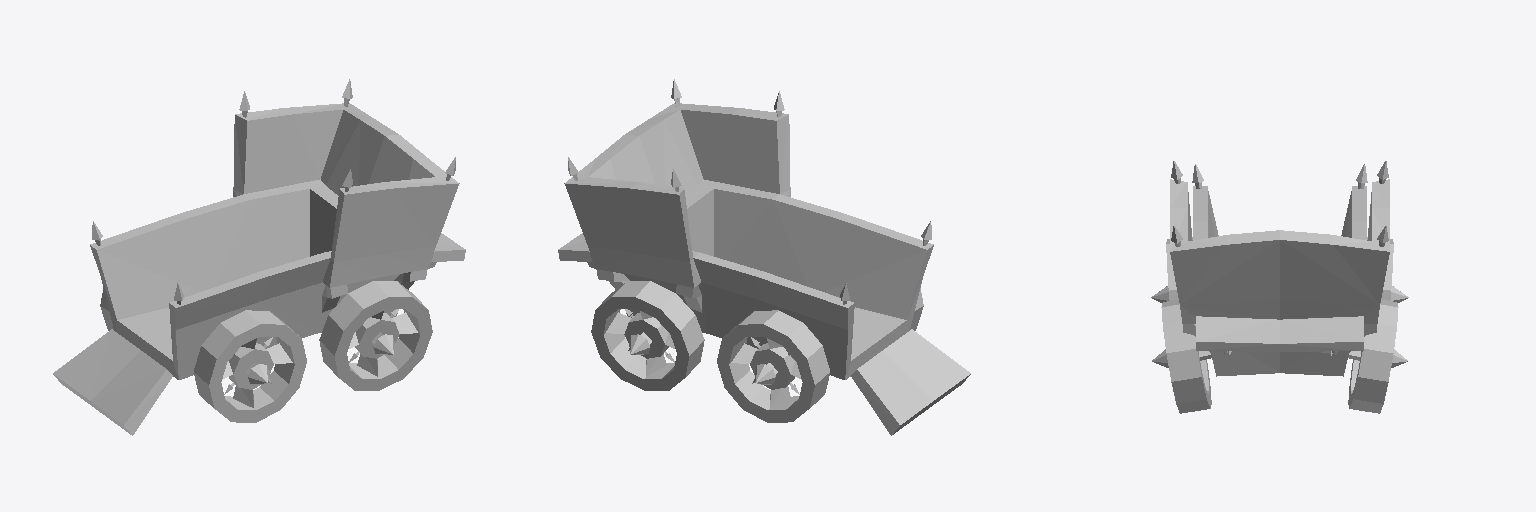
Rendered from fk_wagon02.obj.
The picture shows the model from 3 angles: view 1: azimuth 30°, elevation 25°; view 2: azimuth 150°, elevation 25°; view 3: azimuth 270°, elevation 25°; orthographic projection.
Parts seen in each view (by area): view 1: fk_wagon02; view 2: fk_wagon02; view 3: fk_wagon02.
Boxes of the visible parts, x1,y1,x2,y2 form: fk_wagon02: [53, 79, 465, 435]; fk_wagon02: [558, 79, 970, 435]; fk_wagon02: [1151, 161, 1408, 413].
Size of the model in its own units: 6.14 by 4.08 by 4.09.